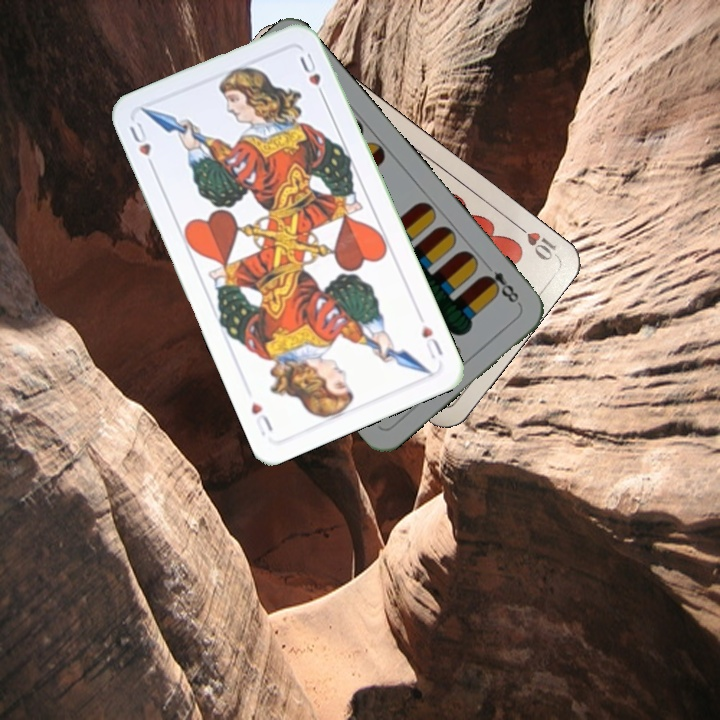E8: (478, 259, 523, 308)
H10: (509, 218, 560, 264)
HU: (125, 118, 158, 174), (417, 321, 446, 362)
